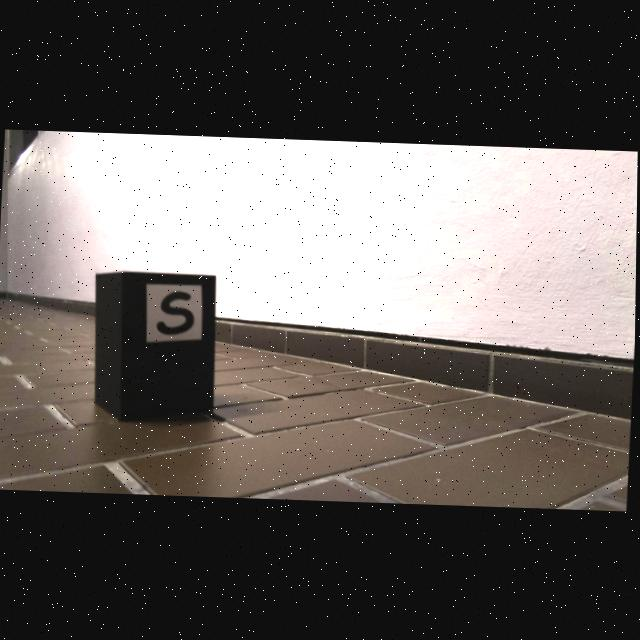S: (158, 291, 194, 335)
